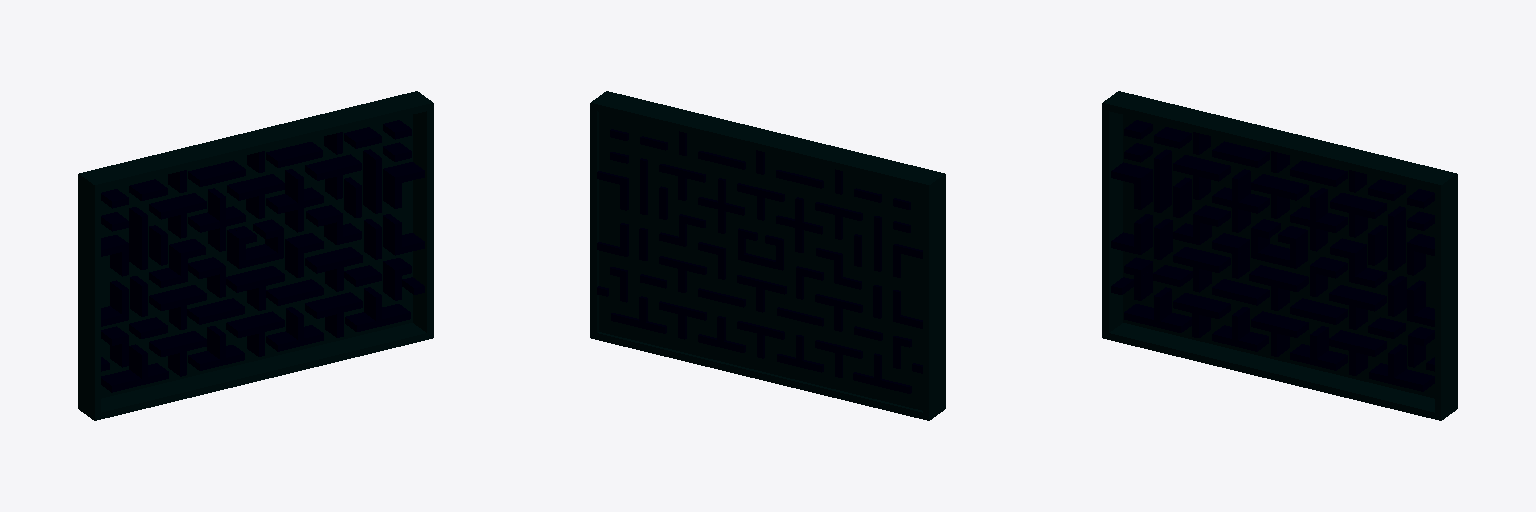
The model's file is MAPA_rotado_textura.obj.
3 renders of one model, left to right at view 1: azimuth 30°, elevation 25°; view 2: azimuth 150°, elevation 25°; view 3: azimuth 330°, elevation 25°, orthographic.
Parts seen in each view (by area): view 1: Cube.005, Plane, Cube.001, Cube, Cube.002, Cube.003; view 2: Plane, Cube.005, Cube.001, Cube.002, Cube, Cube.003; view 3: Cube.005, Plane, Cube.001, Cube, Cube.003, Cube.002.
Part boxes in pixels (x1,y1,x2,y2): Cube.005: (101,120,424,392); Plane: (101,115,412,398); Cube.001: (78,91,433,191); Cube: (78,323,433,420); Cube.002: (78,181,100,413); Cube.003: (413,110,433,332); Plane: (599,112,922,410); Cube.005: (597,129,922,393); Cube.001: (590,91,945,191); Cube.002: (923,181,945,413); Cube: (590,332,945,420); Cube.003: (590,110,598,332); Cube.005: (1111,127,1434,391); Plane: (1123,115,1434,398); Cube.001: (1102,91,1457,191); Cube: (1102,323,1457,420); Cube.003: (1435,181,1457,413); Cube.002: (1102,110,1122,332).
Size of the model in its own units: 152 by 101 by 12.54.